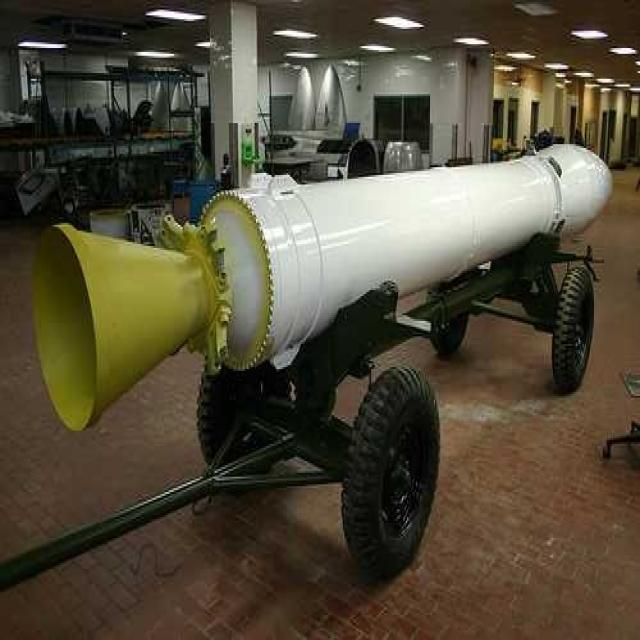missile: (32, 143, 613, 428)
